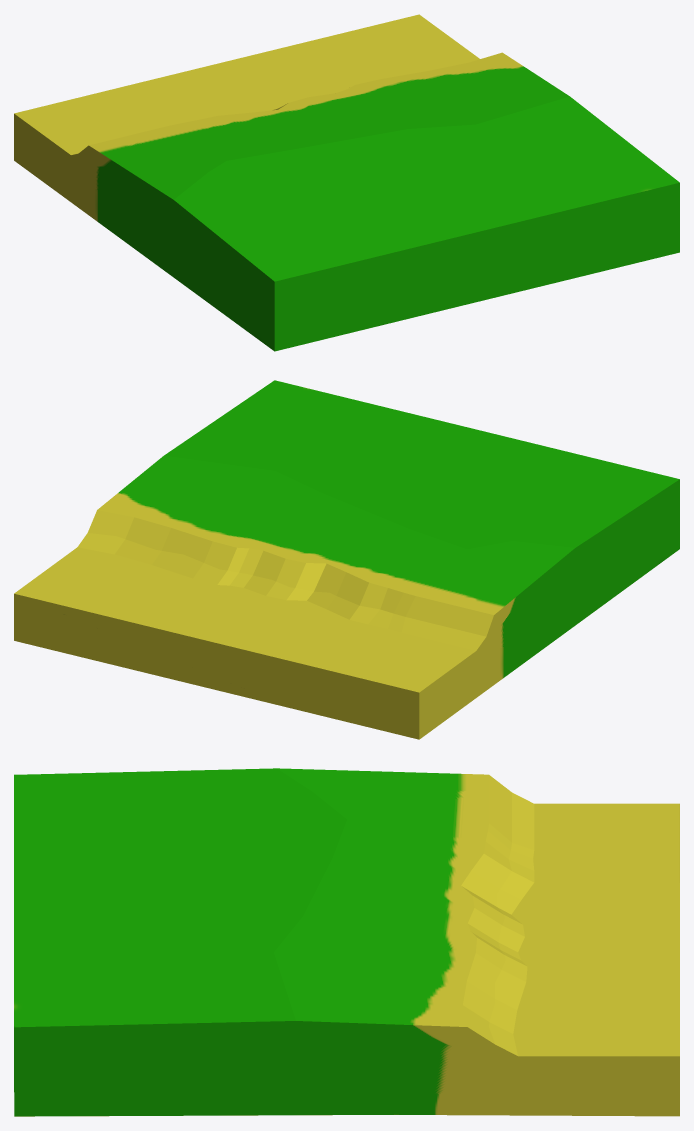
File: beach.gltf
3 views of the same model, one above another, from view 1: azimuth 30°, elevation 25°; view 2: azimuth 150°, elevation 25°; view 3: azimuth 270°, elevation 25° (orthographic). The views are drawn at different scales.
Parts seen in each view (by area): view 1: Cube; view 2: Cube; view 3: Cube.
Part boxes in pixels (x1=…): Cube: x1=14, y1=14, x2=679, y2=351; Cube: x1=14, y1=380, x2=679, y2=739; Cube: x1=14, y1=768, x2=679, y2=1116.
Bounding box in the file's own units: 18.09 × 3.45 × 20.06.
1 material, 1 textured.
